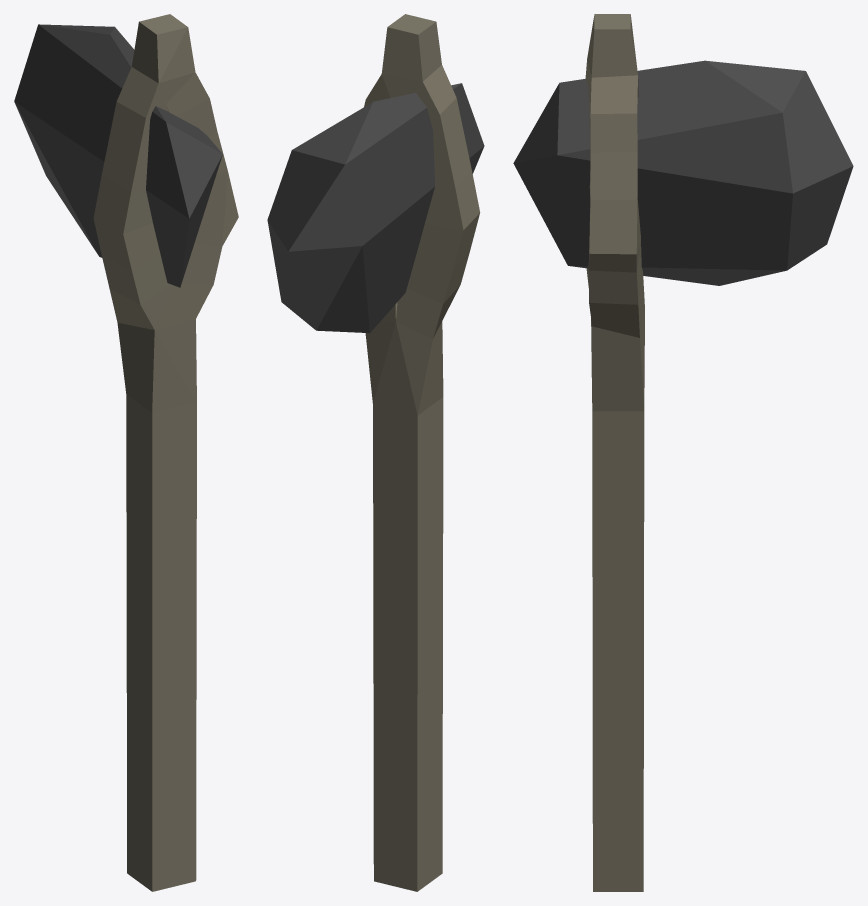
File: axe.glb
3 views of the same model, side by side, from view 1: azimuth 30°, elevation 25°; view 2: azimuth 150°, elevation 25°; view 3: azimuth 270°, elevation 25° (orthographic).
Visible parts, largest first — view 1: Plane, Icosphere; view 2: Plane, Icosphere; view 3: Icosphere, Plane.
Part boxes in pixels (box(x1,y1,x2,y2)): Plane: box(93, 14, 238, 891); Icosphere: box(14, 24, 222, 287); Plane: box(364, 14, 480, 891); Icosphere: box(267, 83, 484, 333); Icosphere: box(513, 60, 853, 285); Plane: box(585, 14, 644, 891).
Bounding box in the file's own units: 0.1467 × 0.9529 × 0.342.
